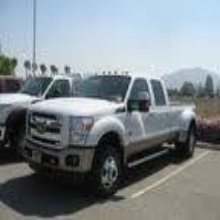no damage: (20, 74, 198, 193), (1, 76, 69, 147)
